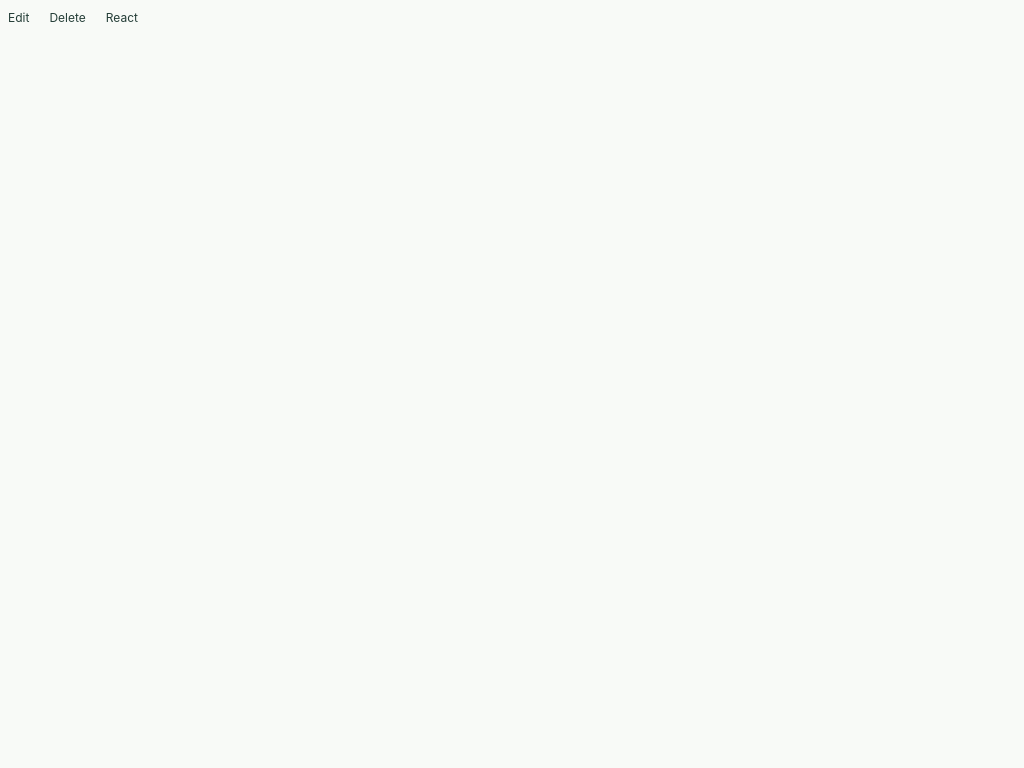
Test case: edits only after confirmation and renders a deleted message without its media
This screenshot has width=1024, height=768.
Later steps or results of the test are not shown.
Click the button with aria-label "Edit message 50" at (19,18), box [0,5,37,31]
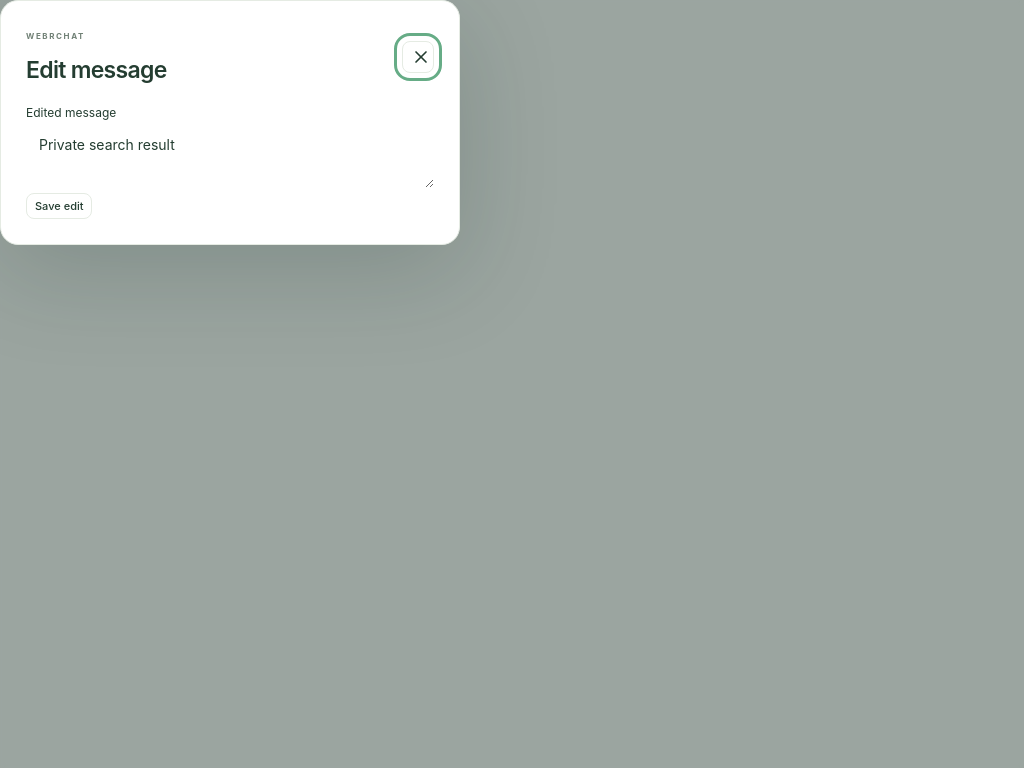
Replace the text in the text box labelled "Edited message" with "Updated content" at (230,154), box [26,122,434,188]
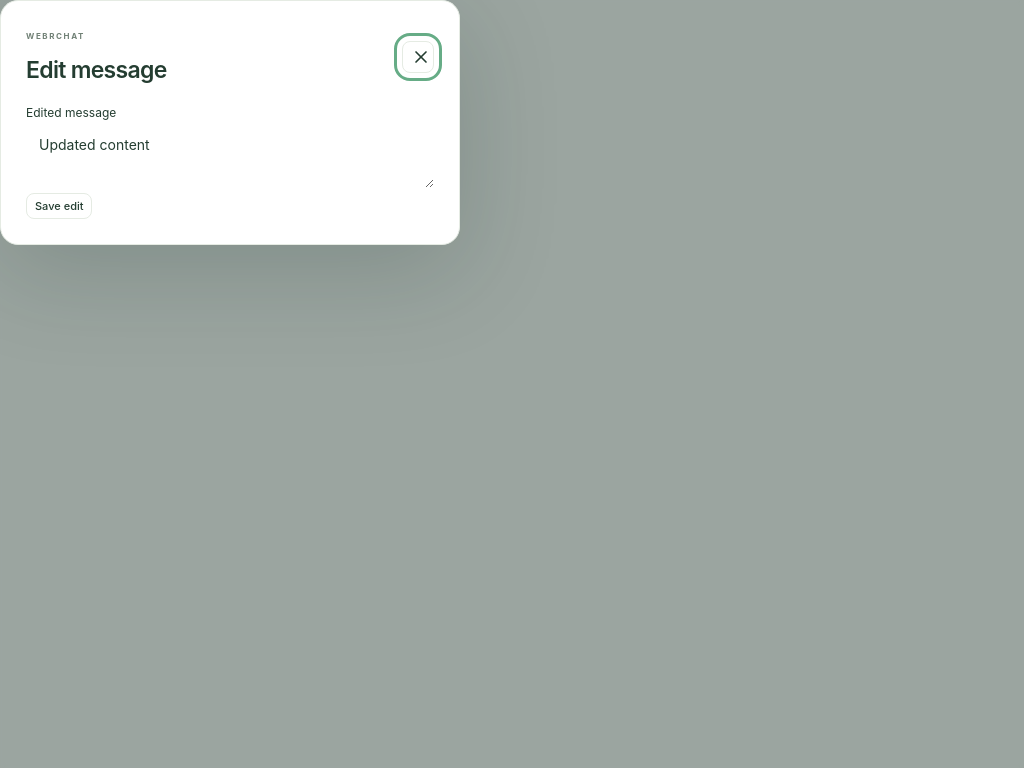
Click the button "Save edit" at (59,206), box [26,192,92,219]
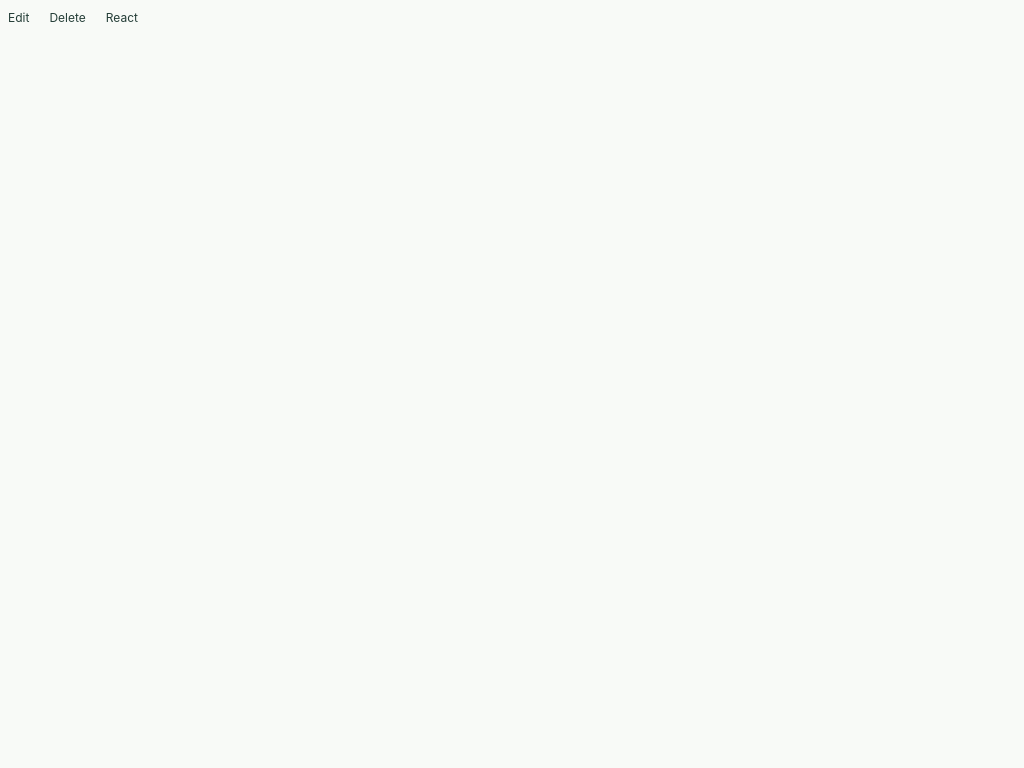
Click the button with aria-label "Delete message 50" at (68,18), box [41,5,94,31]
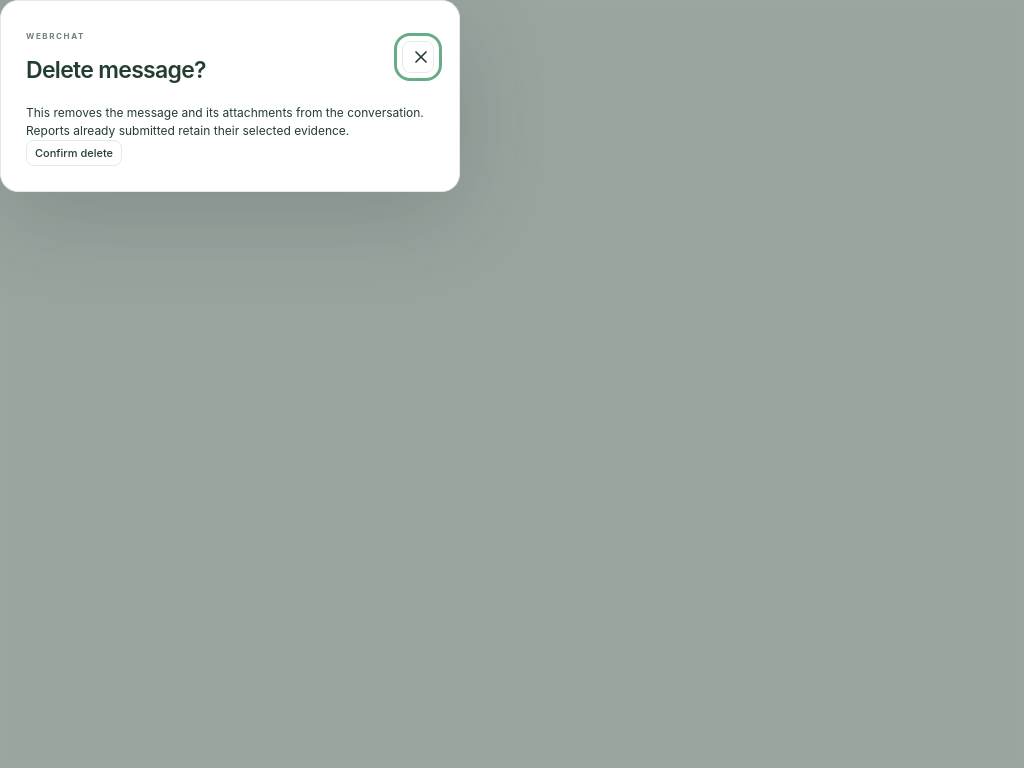
Expected: the text "Reports already submitted" is shown, [26,104,424,138]
